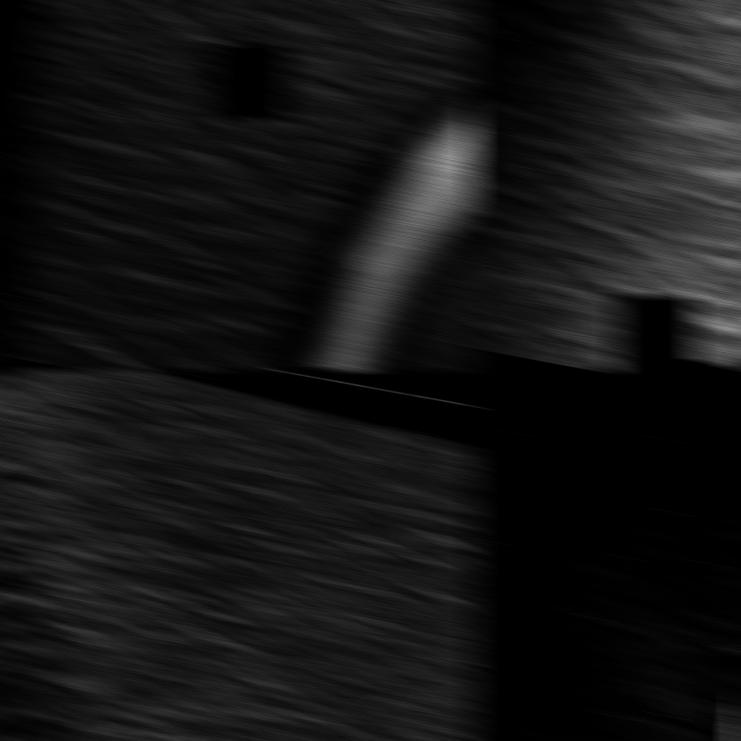Airbag: (0, 369, 480, 741), (0, 0, 480, 371), (468, 369, 741, 741), (468, 0, 741, 371)
